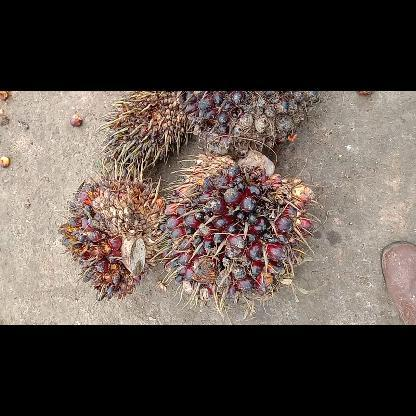Kurang masak: (161, 150, 316, 316), (182, 90, 318, 156)
TBS abnormal: (104, 91, 190, 179)
TBS masak: (58, 178, 162, 300)
